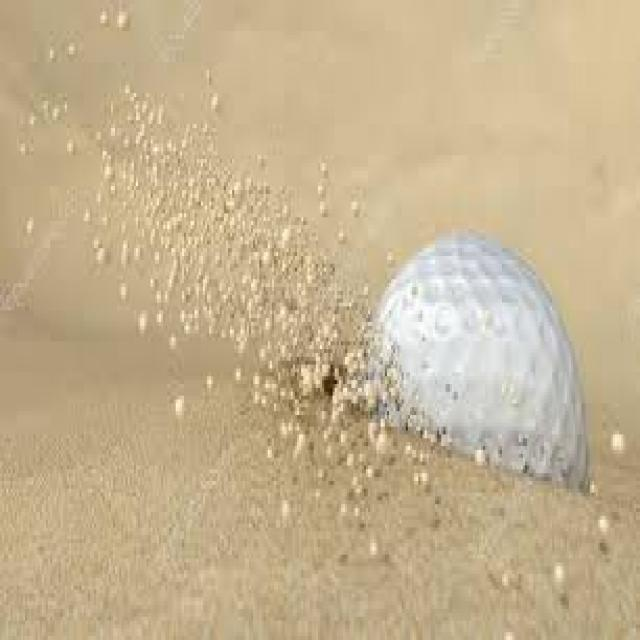golfball: (371, 232, 590, 500)
